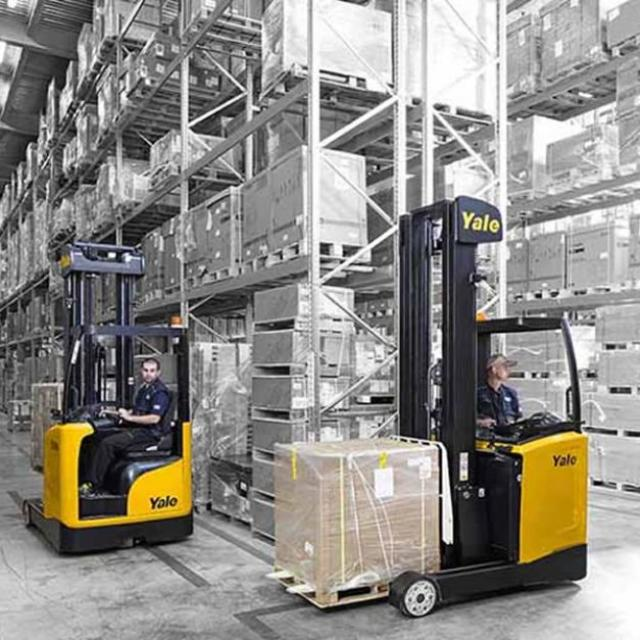Person: (82, 361, 169, 494), (474, 352, 526, 430)
